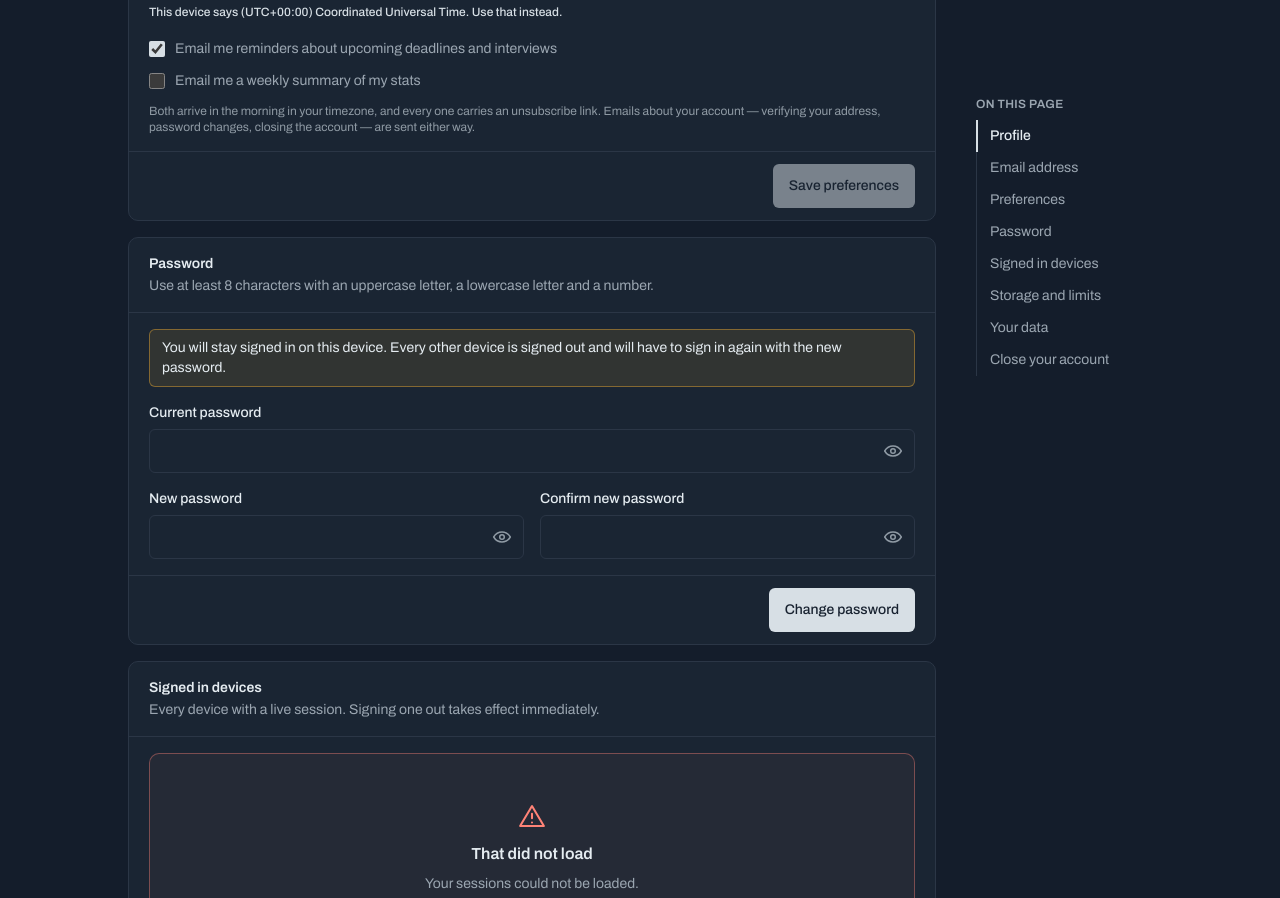
Test case: settings password › catches a mismatched confirmation without a round trip
The image size is (1280, 898).
(page scrolled)
Type "Password1" into the password field labelled "Current password" at (532, 451), box [149,429,915,473]
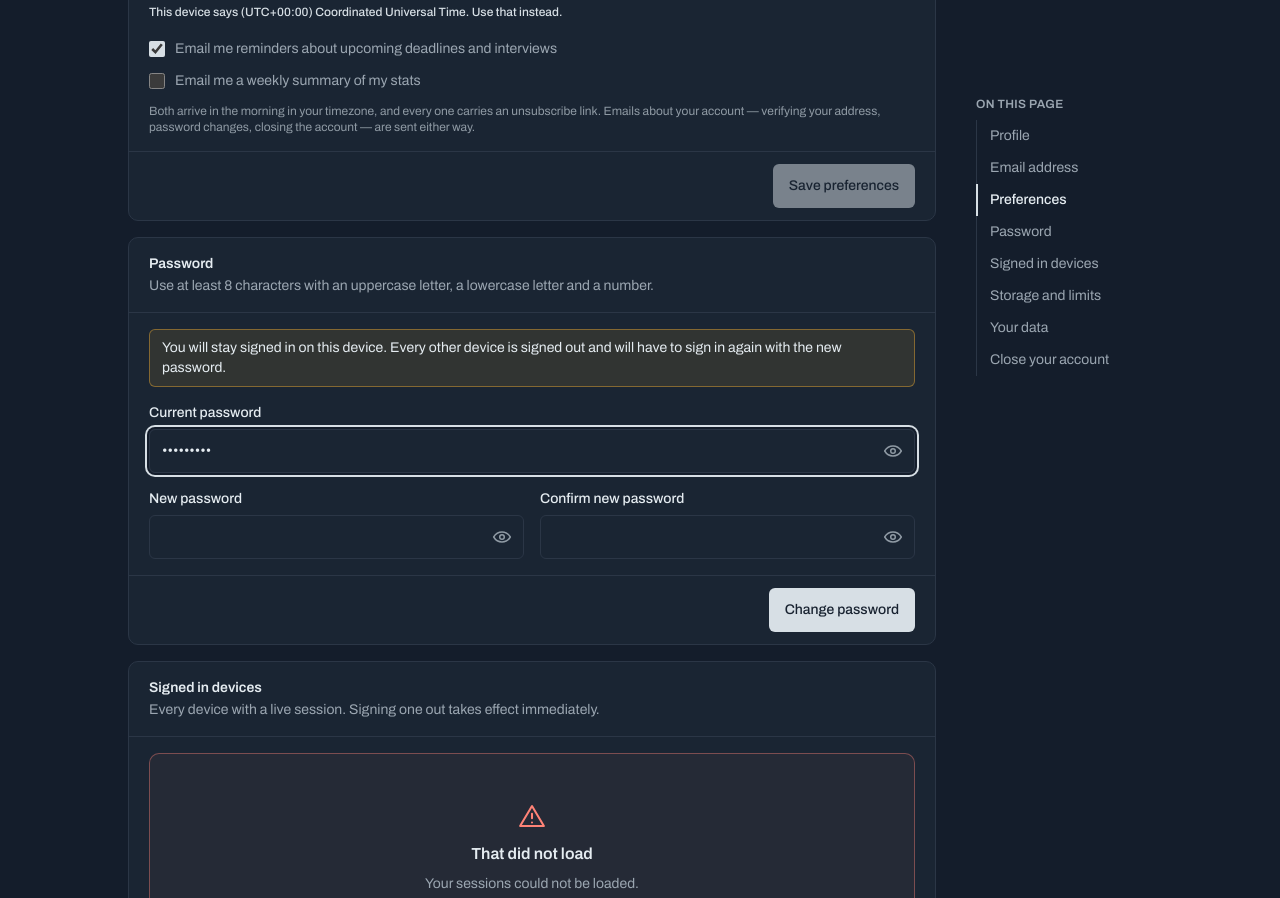
Type "Password2" into the password field labelled "New password" at (336, 537), box [149,515,524,559]
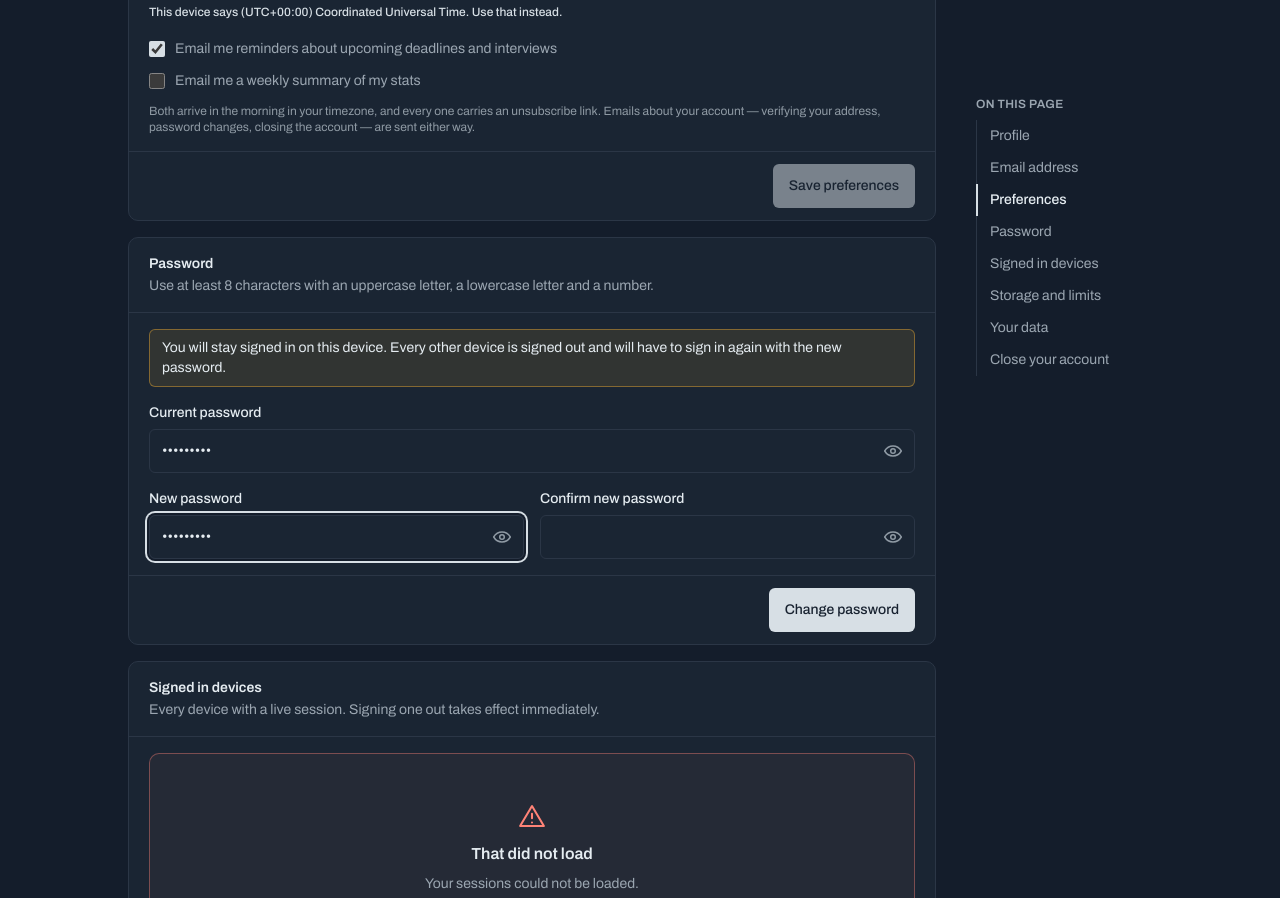
Type "Password3" into the password field labelled "Confirm new password" at (728, 537), box [540,515,915,559]
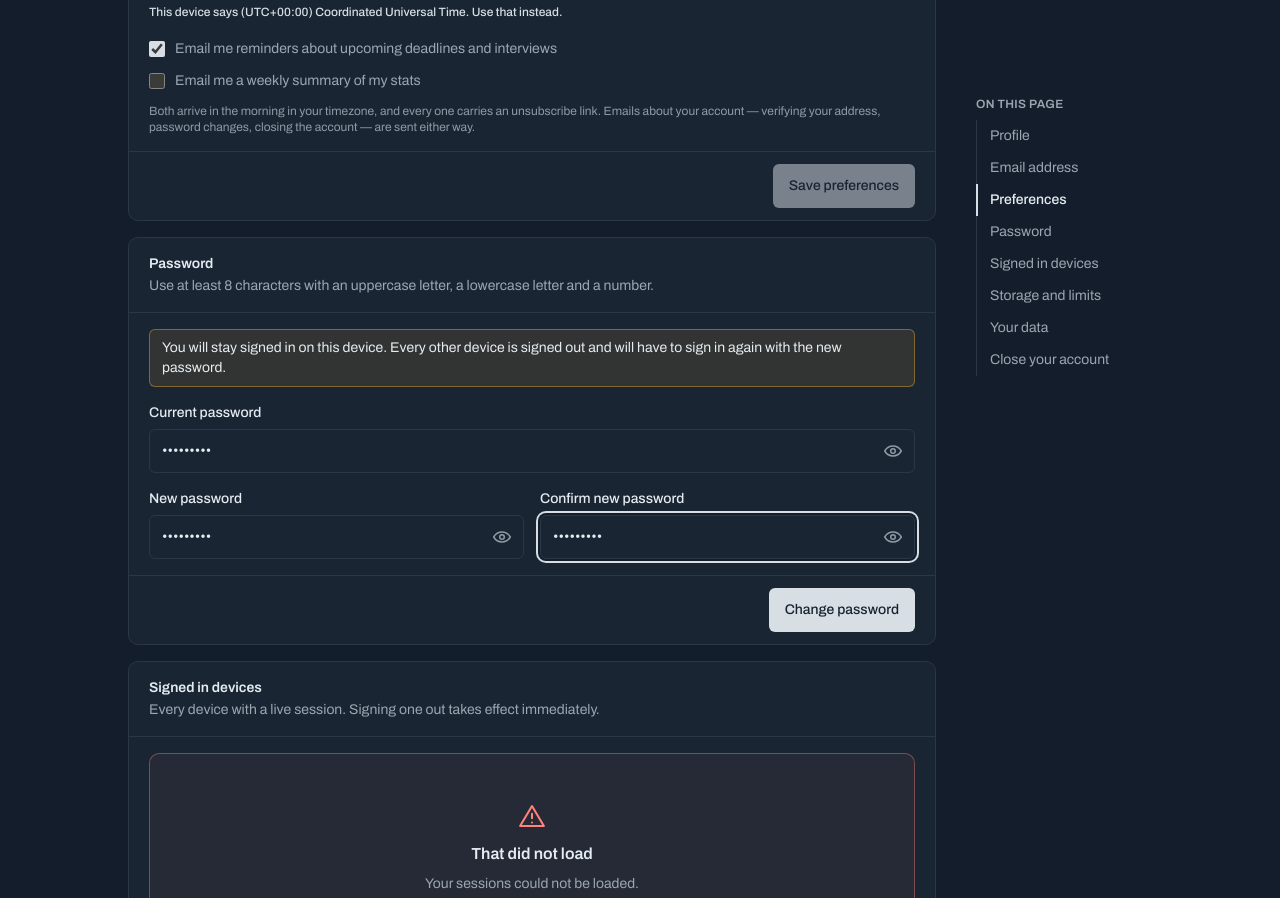
Click the button "Change password" at (842, 610), box [769,588,915,632]
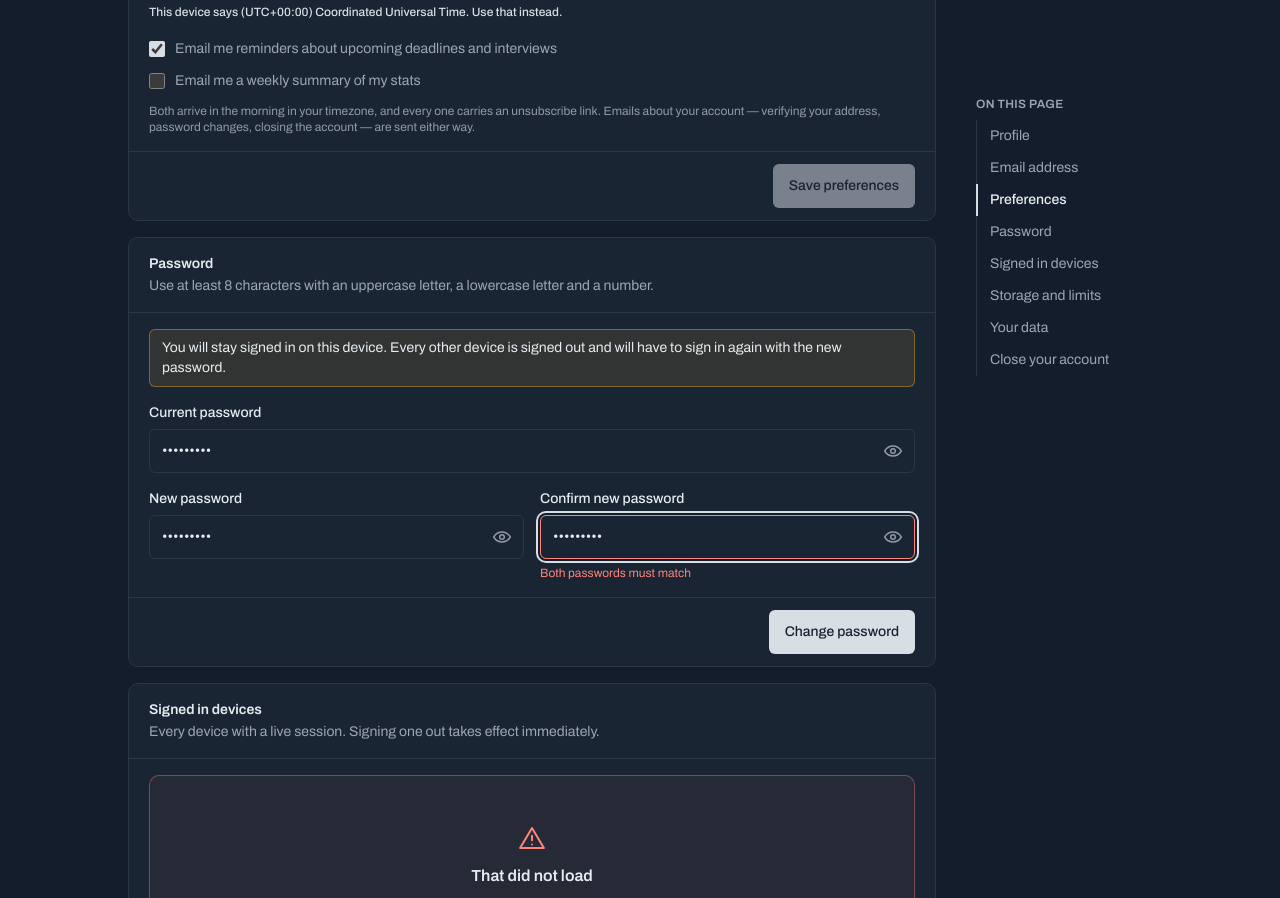
expect the text "Both passwords must match" is shown: met, box [540,566,691,580]
